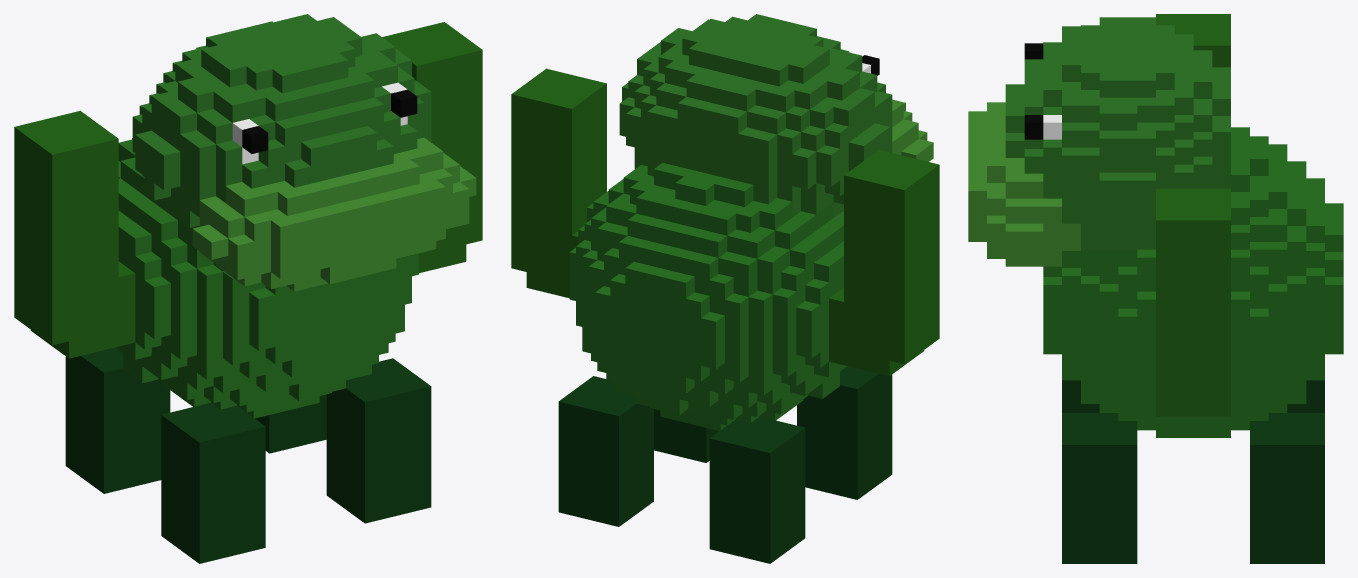
File: cacto_hipopotamo.glb
3 views of the same model, side by side, from view 1: azimuth 30°, elevation 25°; view 2: azimuth 150°, elevation 25°; view 3: azimuth 270°, elevation 25° (orthographic). The views are drawn at different scales.
Visible parts, largest first — view 1: brainrot; view 2: brainrot; view 3: brainrot.
Boxes of the visible parts, <box> form: brainrot: <box>14,14,482,563</box>; brainrot: <box>511,14,939,563</box>; brainrot: <box>968,14,1343,563</box>.
Size of the model in its own units: 4.62 by 4.8 by 3.56.
1 material, 1 textured.
